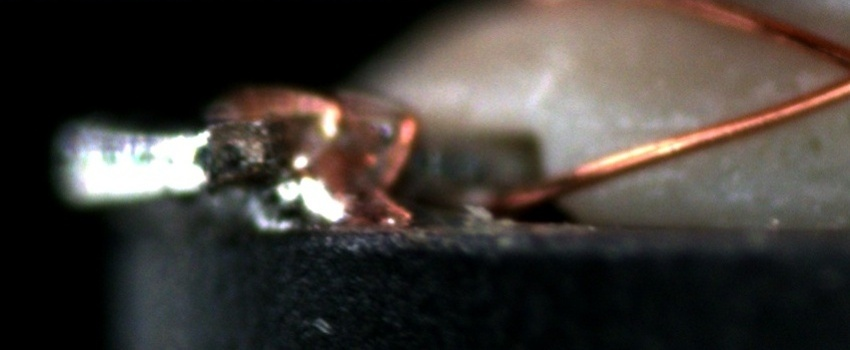CL: (831, 43, 850, 97)
DL: (574, 97, 711, 161)
TE: (208, 78, 422, 201)
